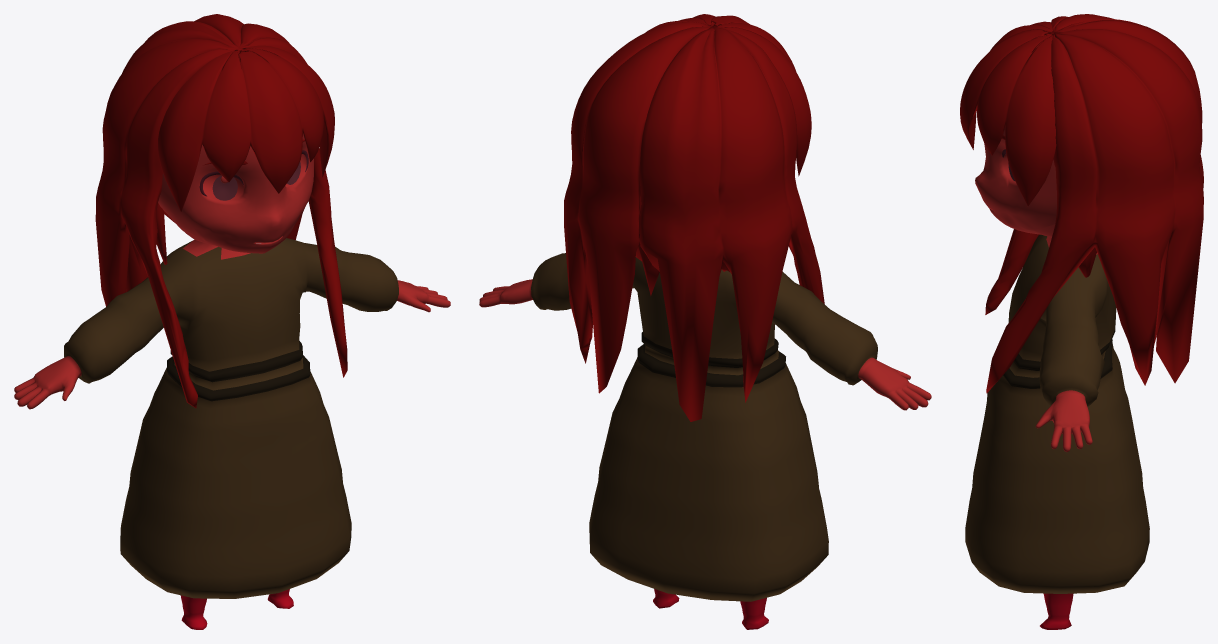
Rendered from Vyre.fbx.
The picture shows the model from 3 angles, left to right: view 1: azimuth 30°, elevation 25°; view 2: azimuth 150°, elevation 25°; view 3: azimuth 270°, elevation 25°; orthographic projection. The views are drawn at different scales.
Visible parts, largest first — view 1: friskandchara_reference; view 2: friskandchara_reference; view 3: friskandchara_reference.
Part boxes in pixels (<box>): friskandchara_reference: <box>14,14,450,629</box>; friskandchara_reference: <box>479,14,931,629</box>; friskandchara_reference: <box>960,14,1203,629</box>.
Size of the model in its own units: 3221 by 4118 by 1568.
